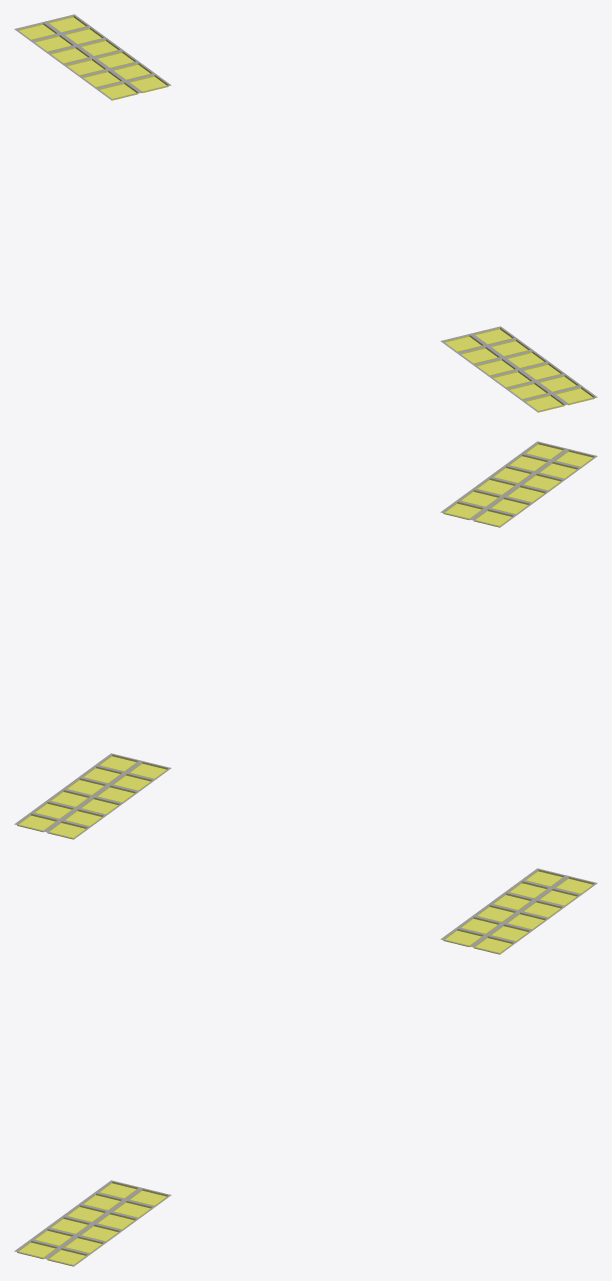
The model's file is Office_Ceiling.fbx.
3 views of the same model, one above another, from view 1: azimuth 30°, elevation 25°; view 2: azimuth 150°, elevation 25°; view 3: azimuth 330°, elevation 25° (orthographic).
Parts seen in each view (by area): view 1: SmallLightPart9 (×2), SmallLightPart8 (×2); view 2: SmallLightPart1 (×2), SmallLightPart (×2); view 3: SmallLightPart8 (×2), SmallLightPart9 (×2).
Part boxes in pixels (bbox=[...]): SmallLightPart9 (×2): bbox=[95, 81, 567, 412]; SmallLightPart8 (×2): bbox=[126, 73, 597, 405]; SmallLightPart1 (×2): bbox=[44, 508, 516, 839]; SmallLightPart (×2): bbox=[14, 500, 485, 832]; SmallLightPart8 (×2): bbox=[44, 935, 516, 1266]; SmallLightPart9 (×2): bbox=[14, 927, 485, 1259].
Size of the model in its own units: 0.8211 by 0.0226 by 12.28.
